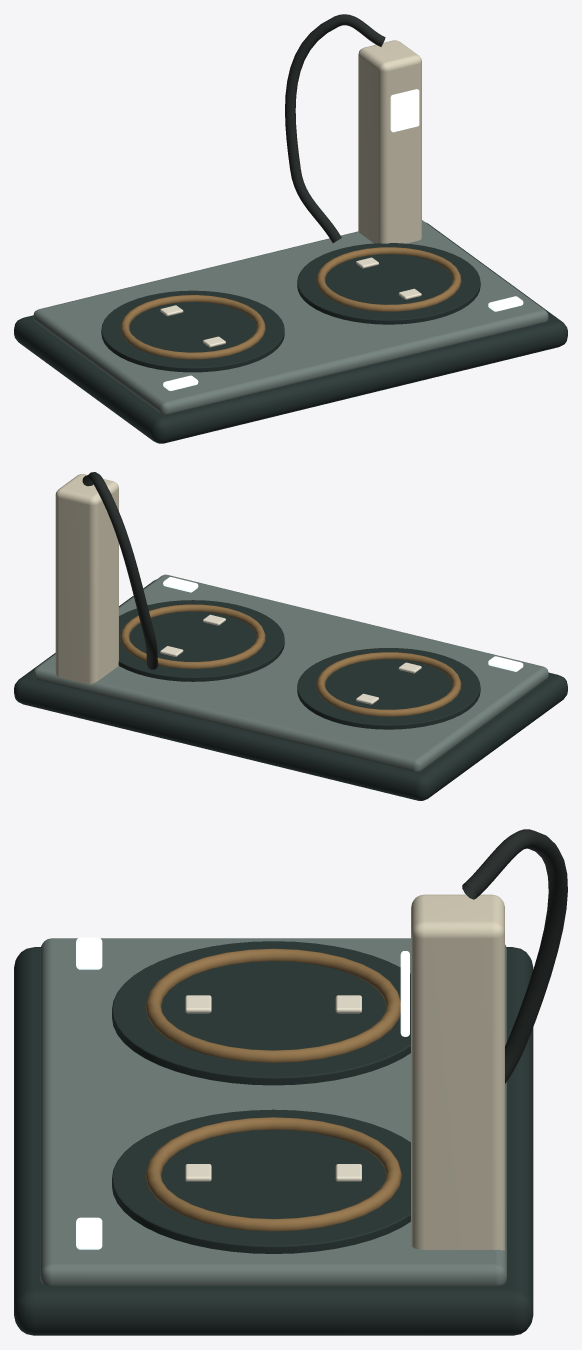
File: prop_charging_dock.glb
3 renders of one model, top to bottom at view 1: azimuth 30°, elevation 25°; view 2: azimuth 150°, elevation 25°; view 3: azimuth 270°, elevation 25°, orthographic. The views are drawn at different scales.
Visible parts, largest first — view 1: Dock tread, Dock base, Dock bollard, Charging target.001, Charging target, Dock cable, Charge contact.001, Charge contact, Dock readout; view 2: Dock tread, Dock base, Dock bollard, Charging target, Charging target.001, Charge contact, Dock cable, Charge contact.001; view 3: Dock tread, Dock base, Dock bollard, Charging target.001, Charging target, Charge contact.001, Charge contact, Dock cable, Dock lamp, Dock lamp.001, Dock readout.
Boxes of the visible parts, box(x1,y1,x2,y2) form: Dock tread: box(33, 220, 548, 414); Dock base: box(14, 222, 567, 443); Dock bollard: box(358, 40, 421, 243); Charging target.001: box(297, 243, 480, 324); Charging target: box(101, 290, 284, 372); Dock cable: box(285, 14, 385, 242); Charge contact.001: box(316, 247, 461, 311); Charge contact: box(120, 295, 265, 359); Dock readout: box(390, 89, 419, 132); Dock tread: box(33, 574, 548, 771); Dock base: box(14, 580, 567, 800); Dock bollard: box(55, 474, 118, 684); Charging target: box(297, 648, 480, 729); Charging target.001: box(118, 600, 284, 681); Charge contact: box(316, 652, 461, 716); Dock cable: box(82, 472, 158, 669); Charge contact.001: box(120, 604, 265, 668); Dock tread: box(40, 938, 506, 1285); Dock base: box(14, 947, 533, 1335); Dock bollard: box(411, 894, 504, 1250); Charging target.001: box(112, 1109, 410, 1253); Charging target: box(112, 941, 410, 1085); Charge contact.001: box(145, 1117, 401, 1231); Charge contact: box(145, 948, 400, 1062); Dock cable: box(462, 829, 567, 1083); Dock lamp: box(76, 937, 102, 969); Dock lamp.001: box(76, 1217, 102, 1249); Dock readout: box(400, 951, 409, 1036).
Bounding box in the file's own units: 2.25 × 1.29 × 1.47.
